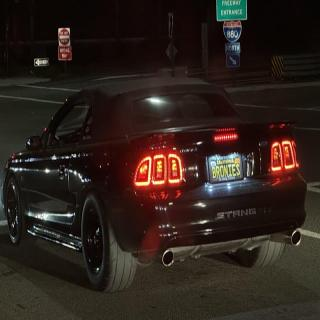license: (208, 153, 245, 184)
